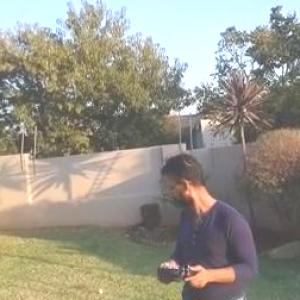follow: (152, 148, 267, 298)
